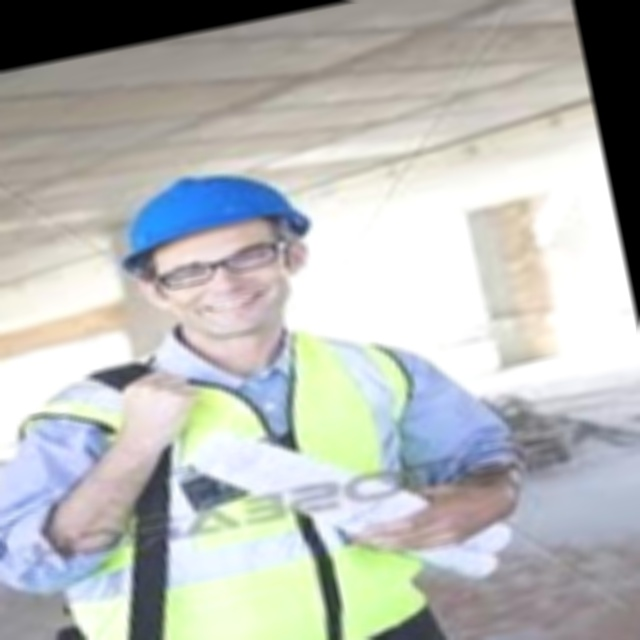Con_Casco: (111, 156, 328, 346)
Con_Chaleco: (20, 295, 507, 640)
